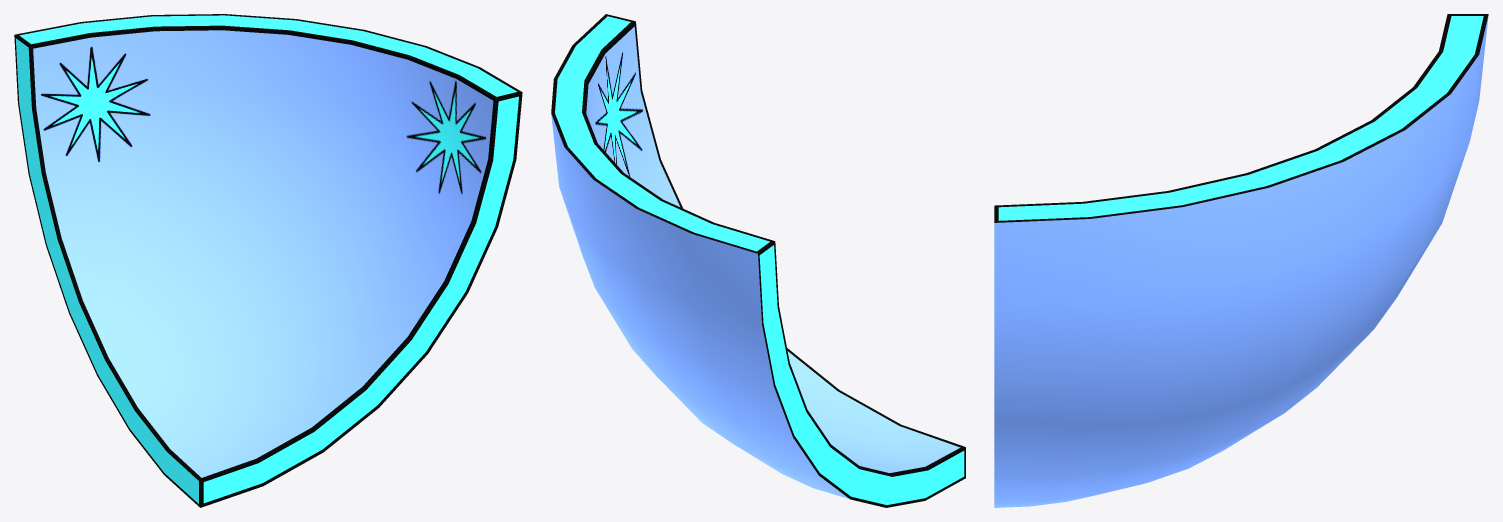
The model's file is cocobay_quarter_corner.gltf.
3 views of the same model, side by side, from view 1: azimuth 30°, elevation 25°; view 2: azimuth 150°, elevation 25°; view 3: azimuth 270°, elevation 25° (orthographic). The views are drawn at different scales.
Visible parts, largest first — view 1: cocobay_quarter_corner_glb; view 2: cocobay_quarter_corner_glb; view 3: cocobay_quarter_corner_glb.
Boxes of the visible parts, x1=… form: cocobay_quarter_corner_glb: x1=14, y1=14, x2=522, y2=507; cocobay_quarter_corner_glb: x1=551, y1=14, x2=965, y2=507; cocobay_quarter_corner_glb: x1=994, y1=14, x2=1488, y2=507.
Size of what is drawn, in the model's own units: 3 by 3 by 3.
Materials: 1 (1 with a texture image).
